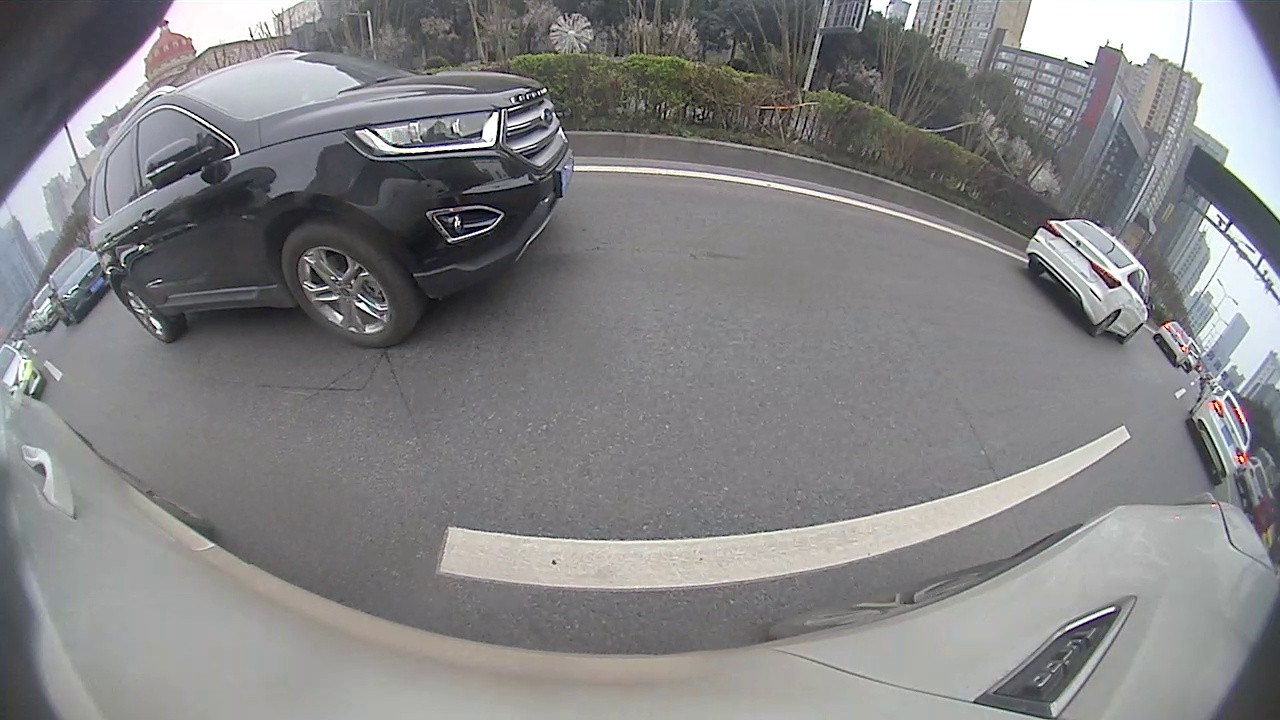car: (88, 48, 574, 350), (1023, 218, 1156, 344), (1185, 385, 1251, 484), (46, 247, 109, 326), (1153, 322, 1194, 369)
front: (280, 224, 409, 349)
rear: (120, 287, 174, 341), (1092, 311, 1120, 336)
